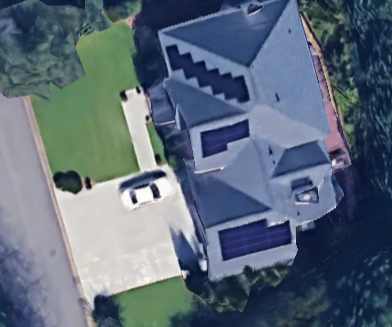driveway: (53, 155, 205, 303)
